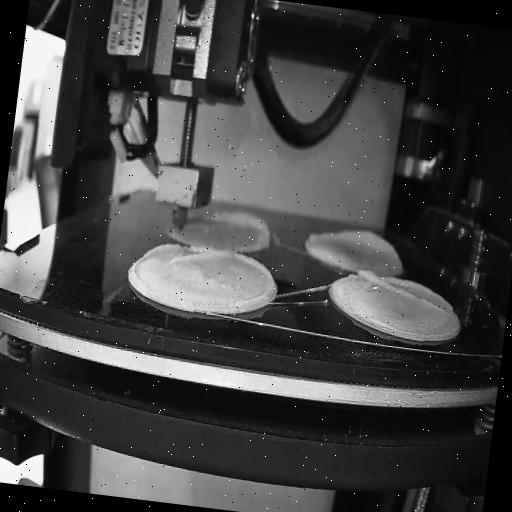over_extrusion: (354, 265, 450, 313), (305, 220, 402, 264), (226, 251, 280, 313), (142, 239, 226, 272), (205, 208, 274, 248)
